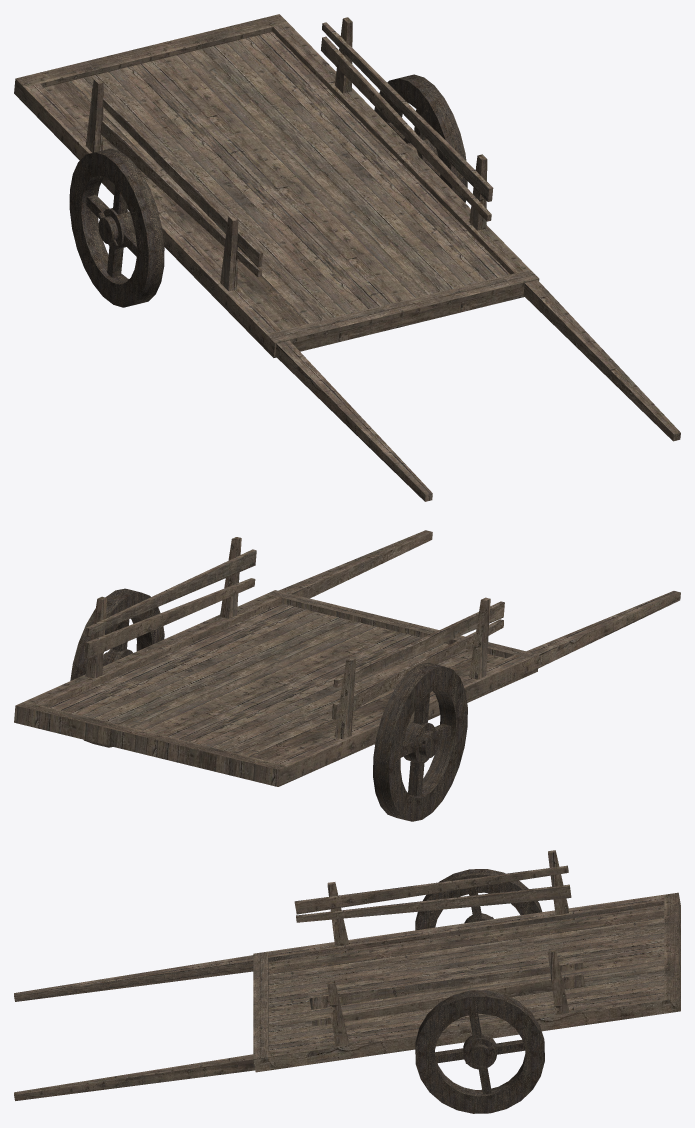
File: Cart.fbx
3 renders of one model, top to bottom at view 1: azimuth 30°, elevation 25°; view 2: azimuth 150°, elevation 25°; view 3: azimuth 270°, elevation 25°, orthographic. The views are drawn at different scales.
Parts seen in each view (by area): view 1: Model; view 2: Model; view 3: Model.
Part boxes in pixels (bbox=[...]): Model: bbox=[14, 14, 680, 501]; Model: bbox=[14, 530, 680, 821]; Model: bbox=[14, 850, 680, 1113].
Bounding box in the file's own units: 321 × 170 × 692.
